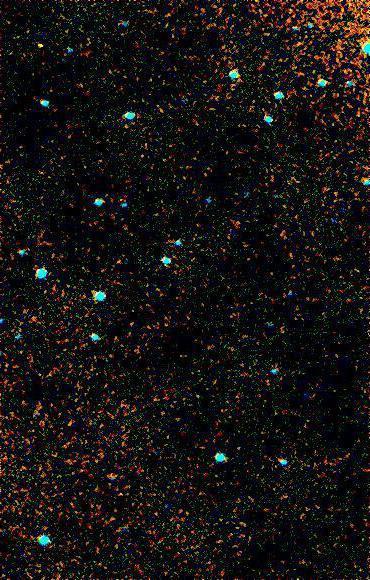star: (27, 31, 57, 61)
